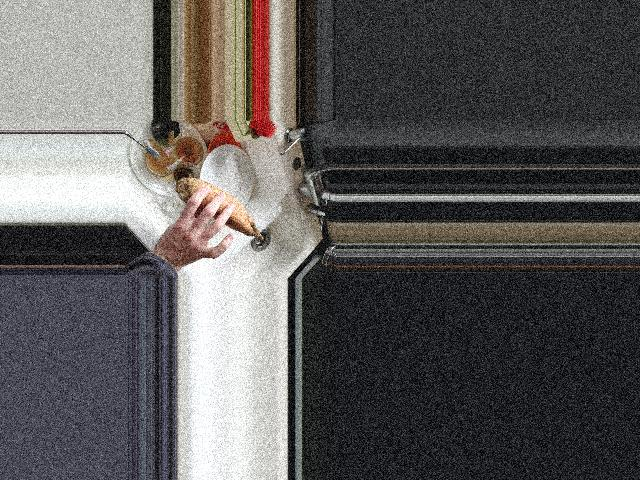sweet_potato: (176, 177, 264, 240)
